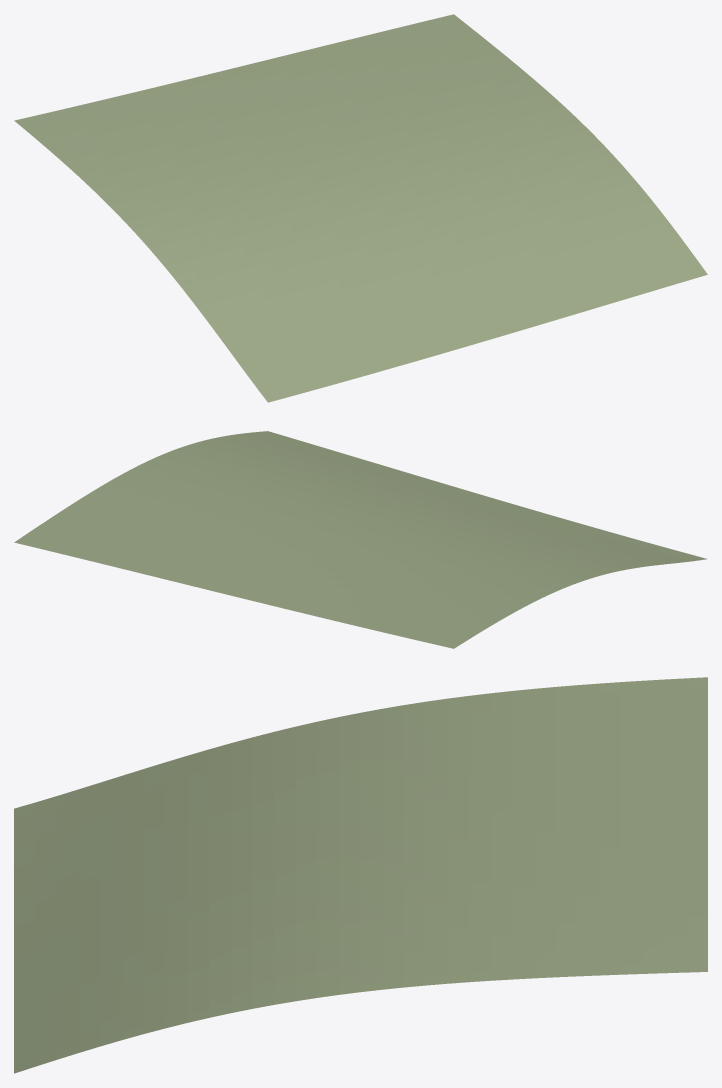
Rendered from expanse-2-4.glb.
3 views of the same model, one above another, from view 1: azimuth 30°, elevation 25°; view 2: azimuth 150°, elevation 25°; view 3: azimuth 270°, elevation 25° (orthographic). The views are drawn at different scales.
Visible parts, largest first — view 1: expanse-2-4; view 2: expanse-2-4; view 3: expanse-2-4.
Part boxes in pixels (box(x1,y1,x2,y2)): expanse-2-4: box(14, 14, 707, 402); expanse-2-4: box(14, 431, 707, 648); expanse-2-4: box(14, 677, 707, 1073).
Bounding box in the file's own units: 256 × 53.48 × 256.
